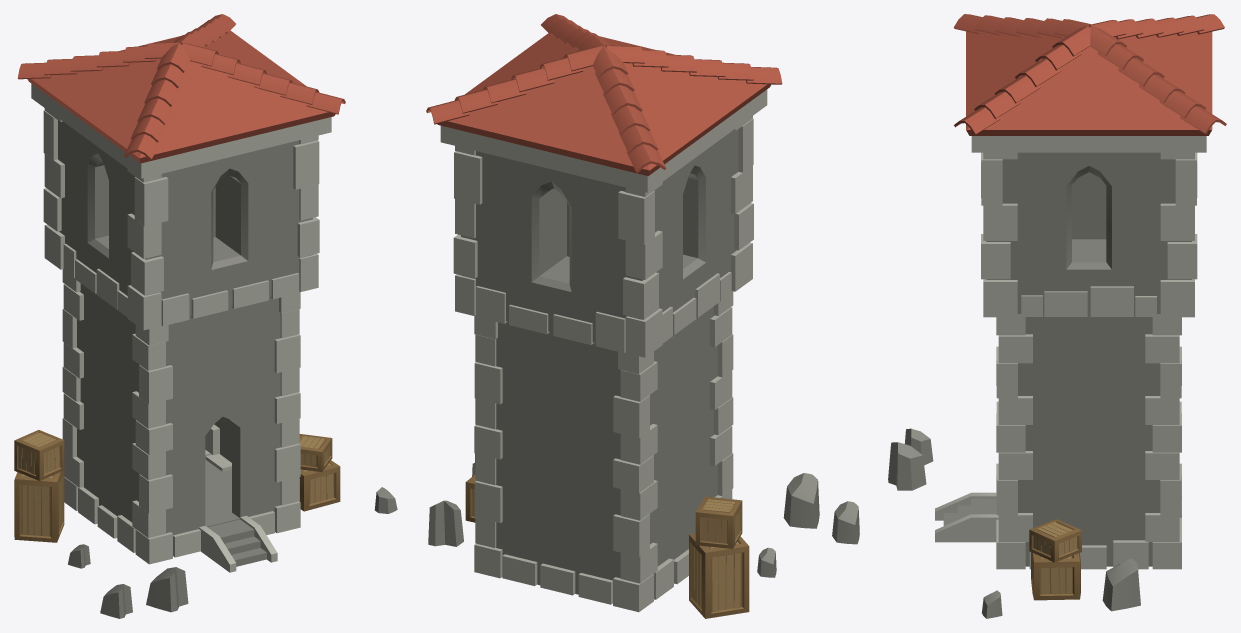
The model's file is bld-stonetower.glb.
The picture shows the model from 3 angles, left to right: view 1: azimuth 30°, elevation 25°; view 2: azimuth 150°, elevation 25°; view 3: azimuth 270°, elevation 25°; orthographic projection. The views are drawn at different scales.
Parts seen in each view (by area): view 1: WatchTower_SecondAge_Level1; view 2: WatchTower_SecondAge_Level1; view 3: WatchTower_SecondAge_Level1.
Boxes of the visible parts, x1,y1,x2,y2 form: WatchTower_SecondAge_Level1: (14,14,397,618); WatchTower_SecondAge_Level1: (426,14,859,618); WatchTower_SecondAge_Level1: (888,14,1226,618).
Bounding box in the file's own units: 0.857 × 1.2 × 0.7226.
